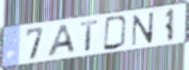1: (164, 6, 176, 44)
7: (24, 26, 47, 61)
A: (45, 23, 78, 58)
D: (102, 14, 130, 51)
N: (130, 11, 156, 48)
T: (79, 19, 100, 52)
